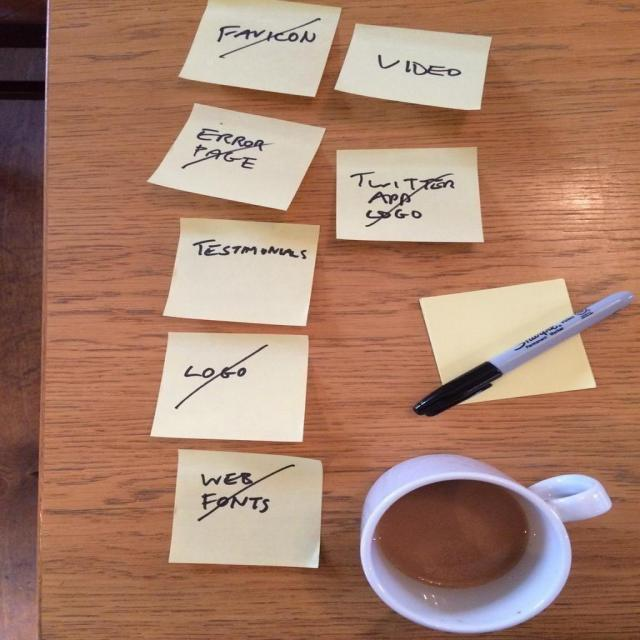cup-handle: (358, 452, 615, 636)
